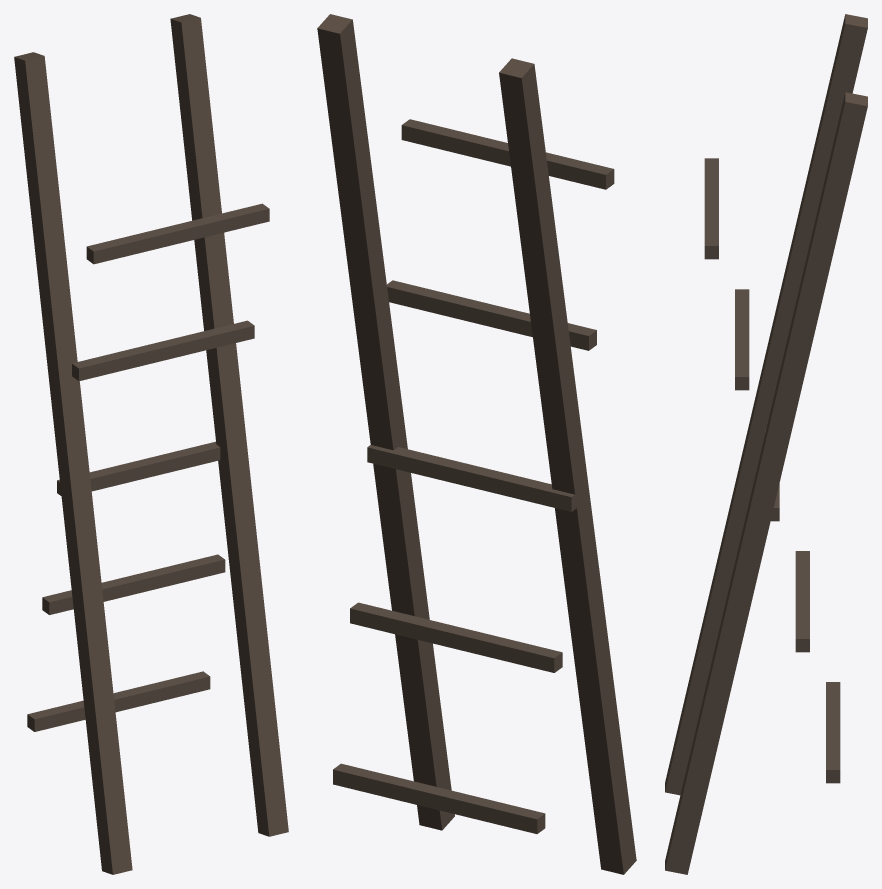
File: prop_hashigo.glb
The picture shows the model from 3 angles, left to right: view 1: azimuth 30°, elevation 25°; view 2: azimuth 150°, elevation 25°; view 3: azimuth 270°, elevation 25°; orthographic projection. The views are drawn at different scales.
Parts seen in each view (by area): view 1: hashigo; view 2: hashigo; view 3: hashigo.
Part boxes in pixels (x1,y1,x2,y2): hashigo: (14,14,288,874); hashigo: (317,14,636,874); hashigo: (665,14,867,874).
Size of the model in its own units: 0.72 by 2.95 by 0.702.
